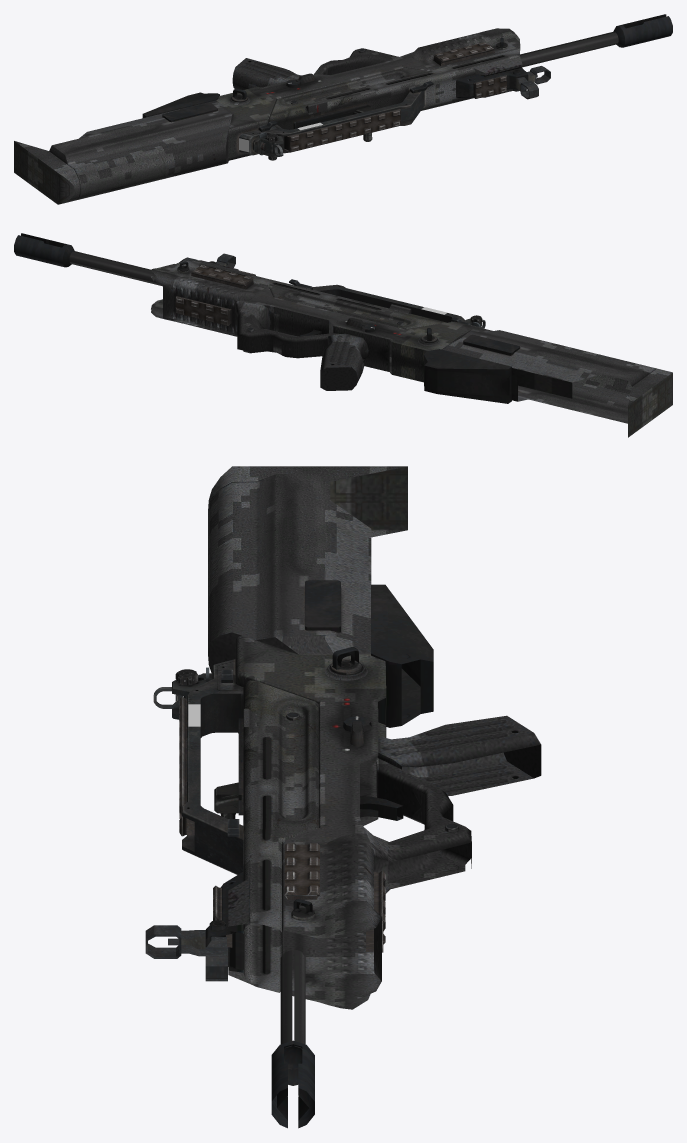
Rendered from t6_wpn_ar_type95_view_LOD0.obj.
3 views of the same model, one above another, from view 1: azimuth 30°, elevation 25°; view 2: azimuth 150°, elevation 25°; view 3: azimuth 270°, elevation 25° (orthographic). The views are drawn at different scales.
Visible parts, largest first — view 1: mtl_t6_wpn_ar_type95_camo2, mtl_t6_wpn_ar_type95_camo1, mtl_t6_wpn_ar_type95; view 2: mtl_t6_wpn_ar_type95_camo2, mtl_t6_wpn_ar_type95_camo1; view 3: mtl_t6_wpn_ar_type95_camo2, mtl_t6_wpn_ar_type95_camo1, mtl_t6_wpn_ar_type95.
Part boxes in pixels (x1,y1,x2,y2): mtl_t6_wpn_ar_type95_camo2: (14,14,672,204); mtl_t6_wpn_ar_type95_camo1: (142,14,666,160); mtl_t6_wpn_ar_type95: (284,77,538,152); mtl_t6_wpn_ar_type95_camo2: (14,233,672,437); mtl_t6_wpn_ar_type95_camo1: (21,233,520,403); mtl_t6_wpn_ar_type95_camo2: (181,466,541,1128); mtl_t6_wpn_ar_type95_camo1: (153,580,433,1120); mtl_t6_wpn_ar_type95: (145,696,205,958).
Bounding box in the file's own units: 91.48 × 7.41 × 25.08.
